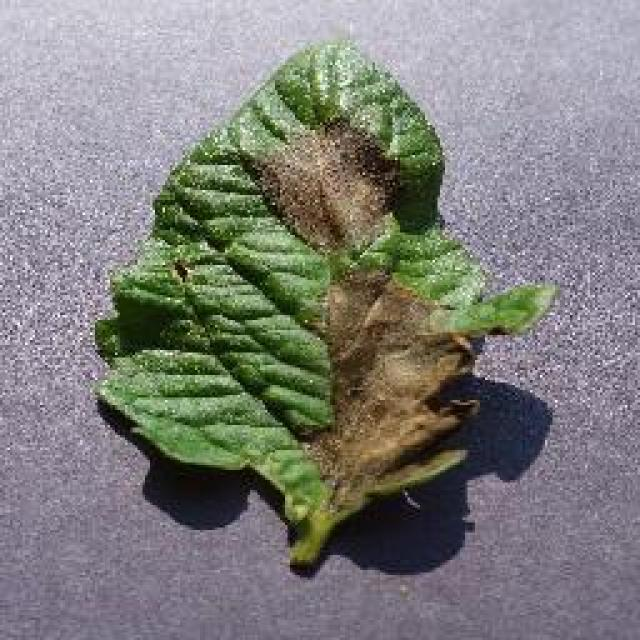Tomato Late Blight: (235, 36, 498, 562)
